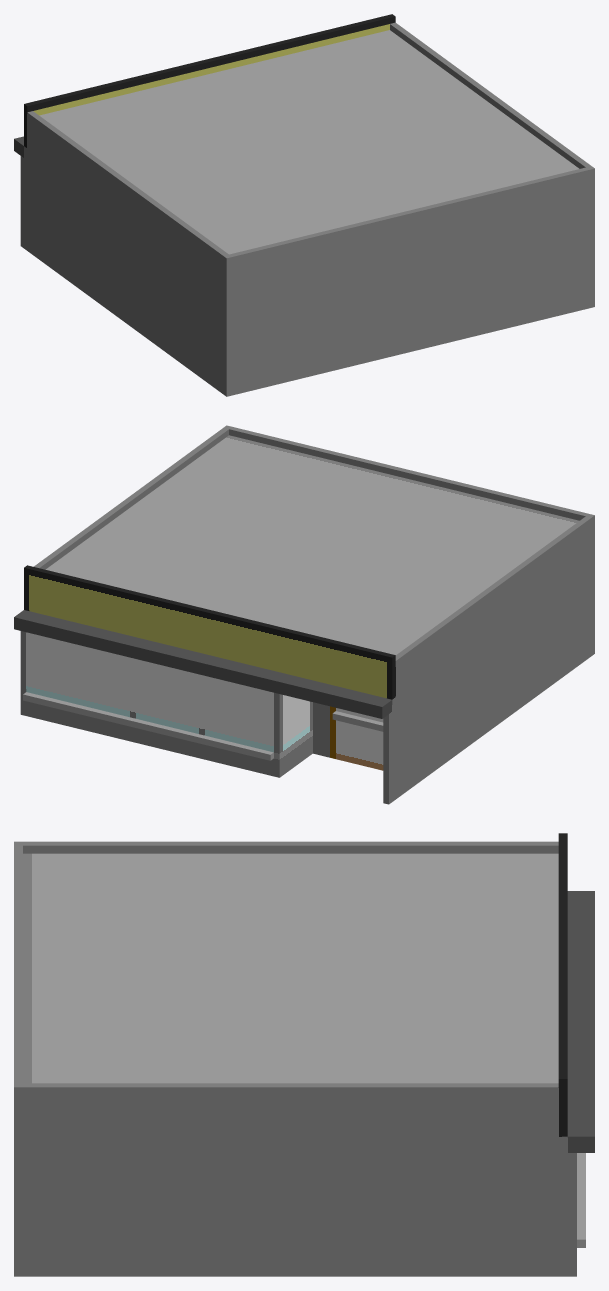
The model's file is obj_store06.dae.
3 renders of one model, top to bottom at view 1: azimuth 30°, elevation 25°; view 2: azimuth 150°, elevation 25°; view 3: azimuth 270°, elevation 25°, orthographic. The views are drawn at different scales.
Parts seen in each view (by area): view 1: obj_store06; view 2: obj_store06; view 3: obj_store06.
Boxes of the visible parts, <box> form: obj_store06: <box>14,14,594,396</box>; obj_store06: <box>14,425,594,804</box>; obj_store06: <box>14,833,594,1276</box>.
Size of the model in its own units: 6.4 by 6.4 by 2.4.
Materials: 1 (1 with a texture image).
